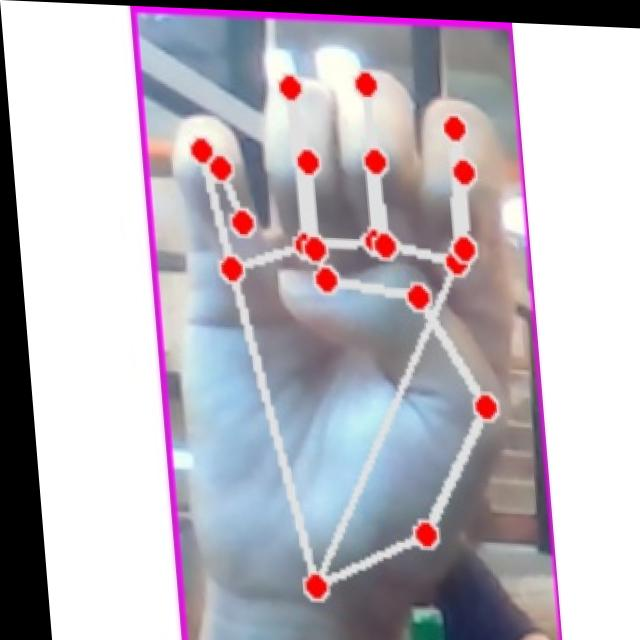E: (144, 50, 540, 609)
